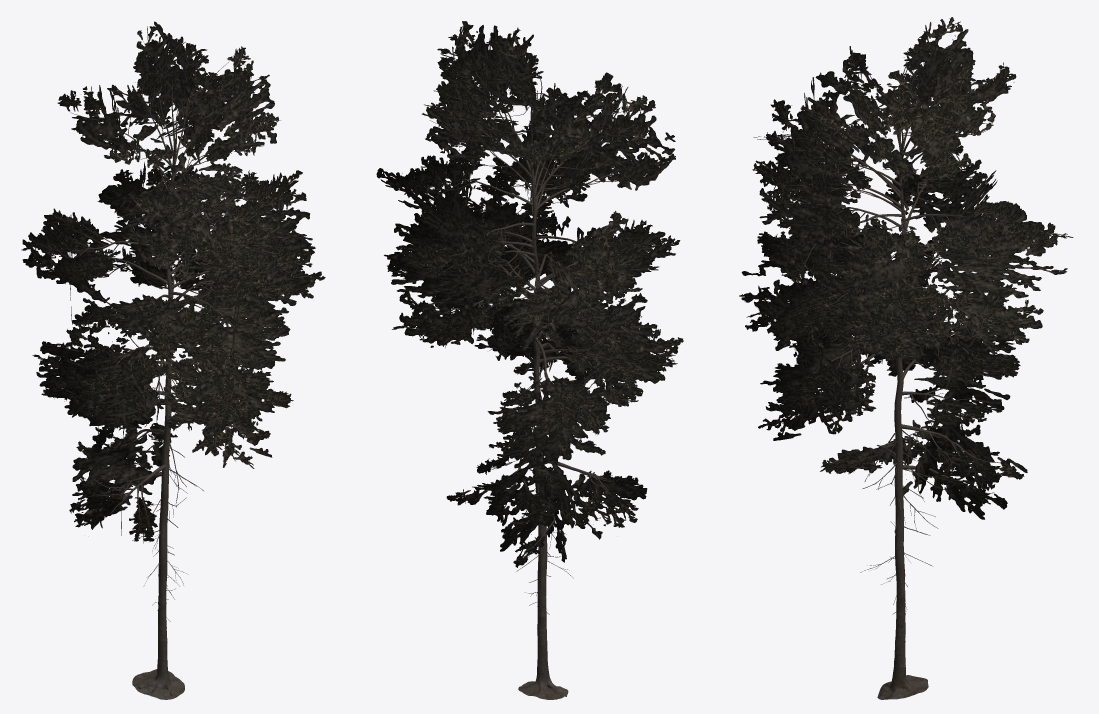
File: tree.gltf
3 views of the same model, side by side, from view 1: azimuth 30°, elevation 25°; view 2: azimuth 150°, elevation 25°; view 3: azimuth 270°, elevation 25° (orthographic). The views are drawn at different scales.
Parts seen in each view (by area): view 1: pine_c, pine_c_far; view 2: pine_c, pine_c_far; view 3: pine_c, pine_c_far.
Part boxes in pixels (x1,y1,x2,y2): pine_c: (21, 26, 325, 699); pine_c_far: (22, 21, 321, 536); pine_c: (376, 21, 683, 699); pine_c_far: (380, 24, 677, 562); pine_c: (739, 17, 1073, 699); pine_c_far: (741, 22, 1067, 519).
Bounding box in the file's own units: 8.41 × 17.59 × 8.43.
4 materials, 4 textured.
